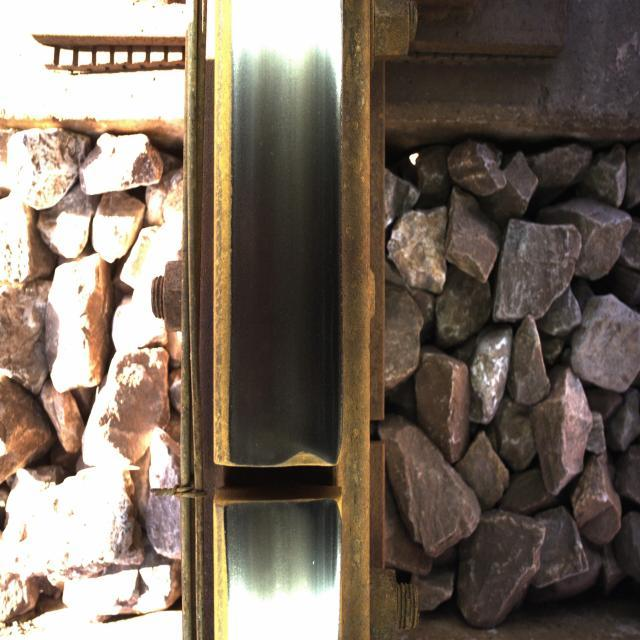spalling: (194, 421, 365, 551)
